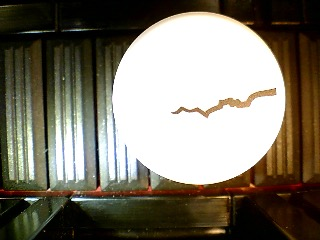CRACK: (112, 11, 286, 185)
